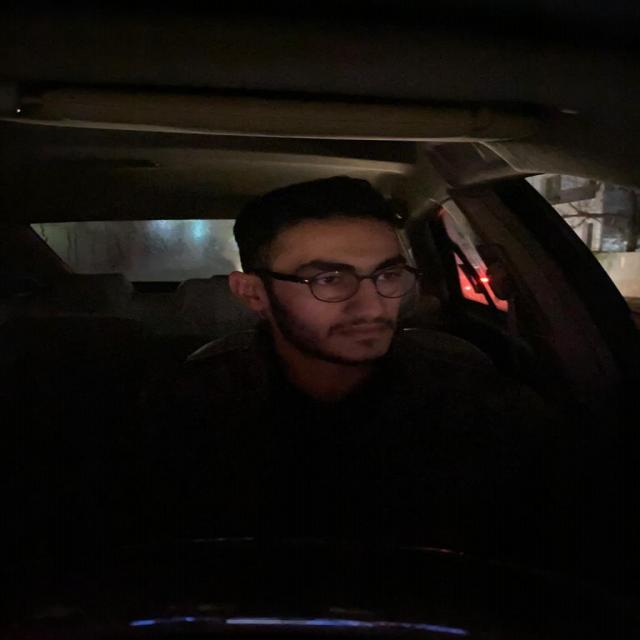person: (242, 185, 427, 369)
